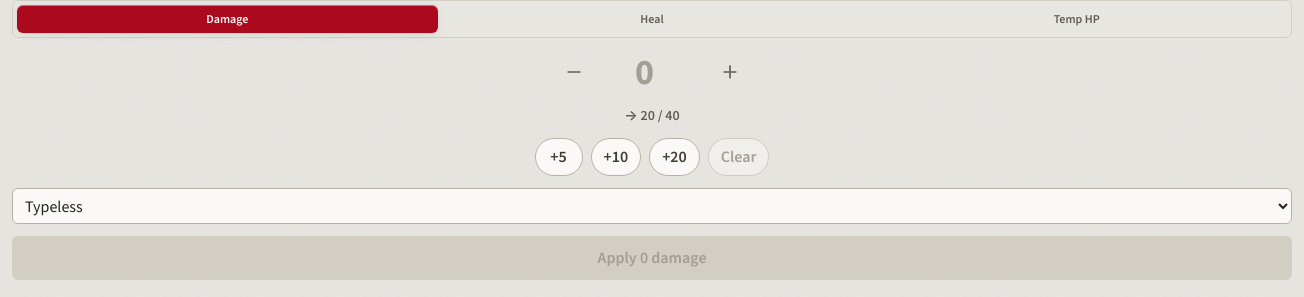
HpActionControl accumulator chips (#796) › the −/+ flanks step the amount by exactly 1
This screenshot has width=1304, height=297.
Click the button named "Add 5". click: (558, 157)
box: [534,138,582,176]
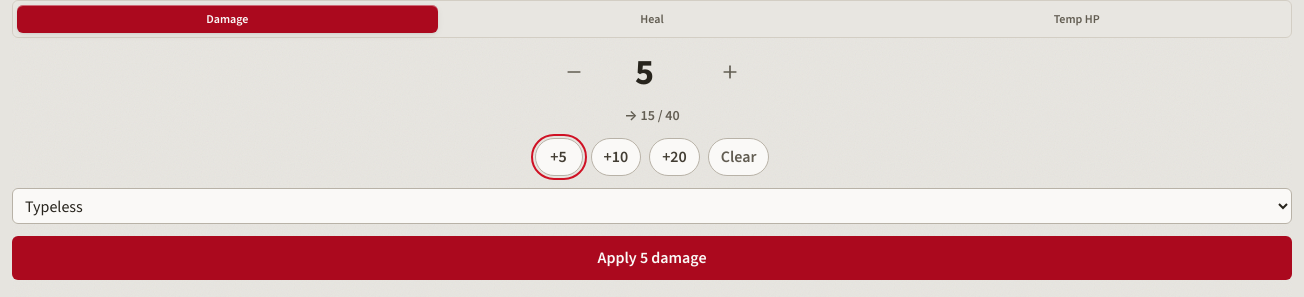
Click the button named "Increase amount". click: (730, 72)
box: [708,50,752,94]
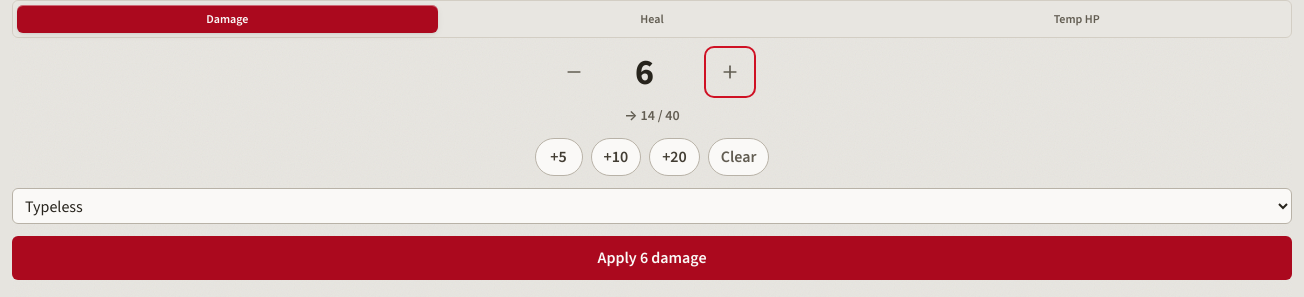
Result: the number field named "damage amount" holds "6" at [604,52,700,92]
Click the button named "Decrease amount". click: (574, 72)
box: [552,50,596,94]
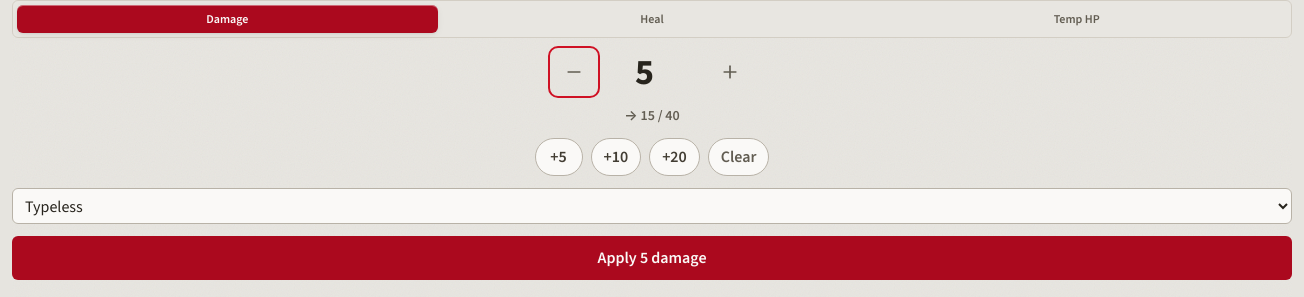
Result: the number field named "damage amount" holds "5" at [604,52,700,92]
